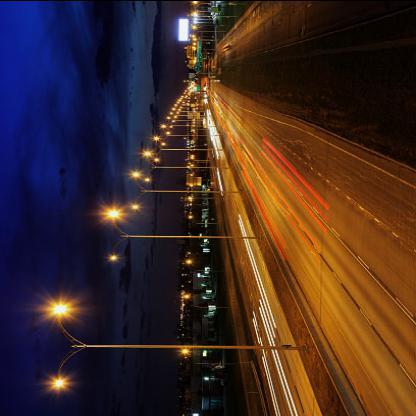on: (51, 166, 152, 266), (29, 259, 90, 406), (119, 95, 198, 175)
